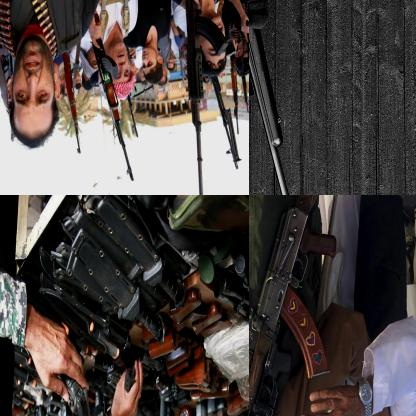knife: (87, 195, 188, 315), (75, 232, 164, 348), (40, 246, 132, 351), (39, 286, 120, 362)
rifle: (249, 195, 338, 415), (249, 0, 320, 194), (182, 0, 230, 194), (86, 15, 138, 186), (57, 48, 86, 162)
